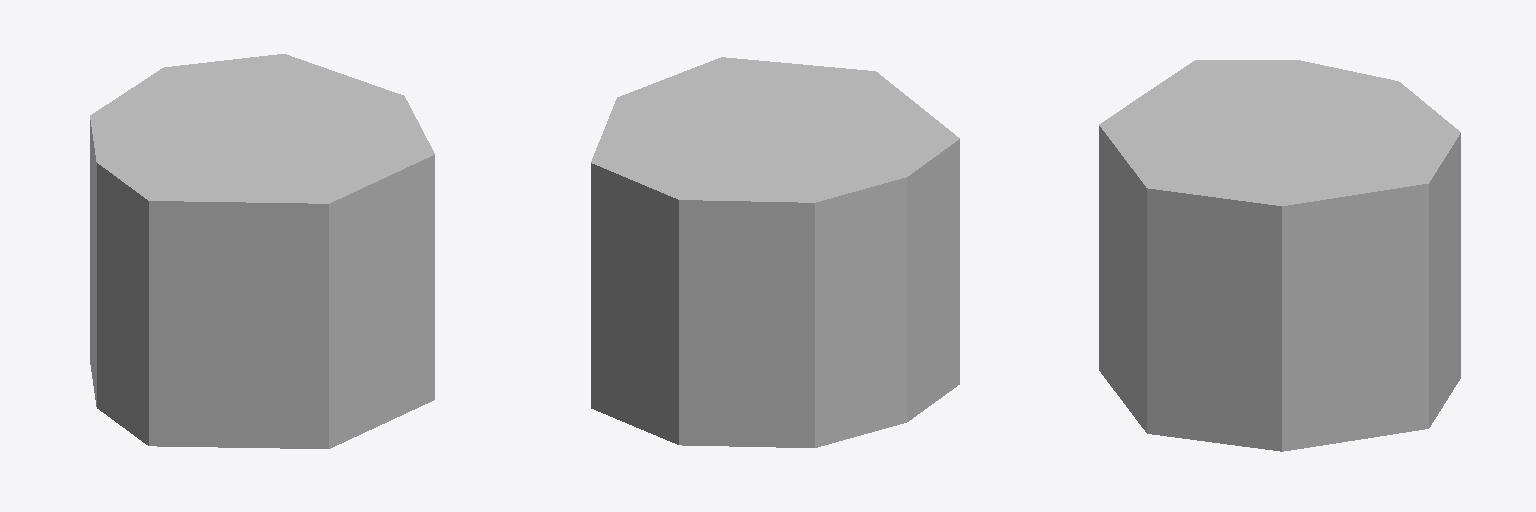
The model's file is platformEmptyFlowerCOLL.obj.
The picture shows the model from 3 angles: view 1: azimuth 30°, elevation 25°; view 2: azimuth 150°, elevation 25°; view 3: azimuth 270°, elevation 25°; orthographic projection.
Visible parts, largest first — view 1: platformEmptyFlowerCOLL PlatfprmsAndSpikes; view 2: platformEmptyFlowerCOLL PlatfprmsAndSpikes; view 3: platformEmptyFlowerCOLL PlatfprmsAndSpikes.
Part boxes in pixels (bbox=[...]): platformEmptyFlowerCOLL PlatfprmsAndSpikes: bbox=[90, 54, 434, 448]; platformEmptyFlowerCOLL PlatfprmsAndSpikes: bbox=[591, 57, 959, 447]; platformEmptyFlowerCOLL PlatfprmsAndSpikes: bbox=[1099, 60, 1460, 451].
Size of the model in its own units: 4.56 by 3.57 by 4.77.